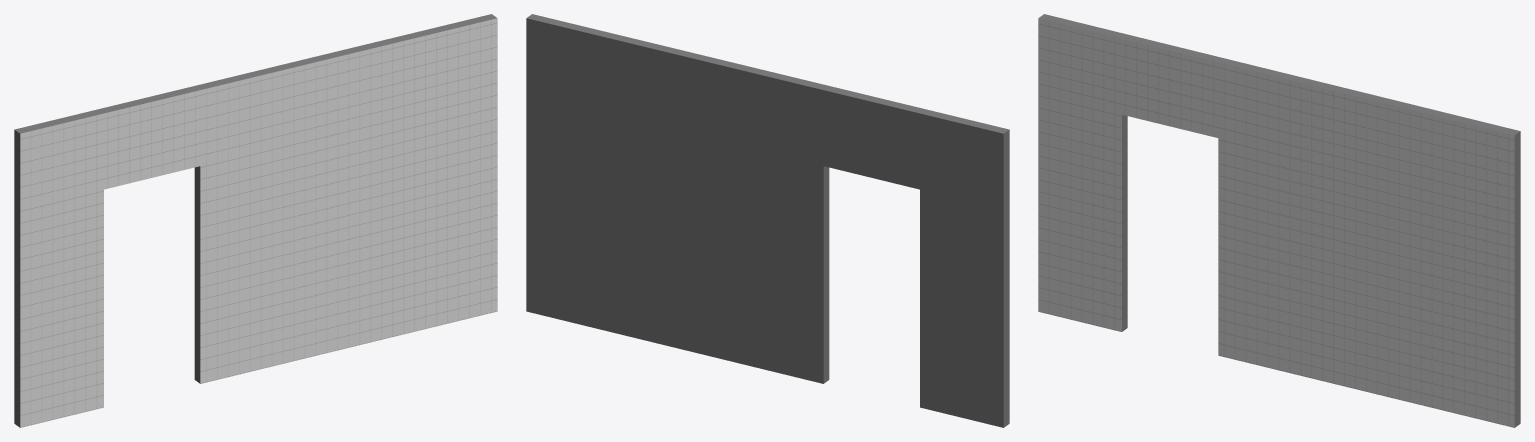
File: door wall.FBX
3 renders of one model, left to right at view 1: azimuth 30°, elevation 25°; view 2: azimuth 150°, elevation 25°; view 3: azimuth 330°, elevation 25°, orthographic.
Parts seen in each view (by area): view 1: door wall; view 2: door wall; view 3: door wall.
Part boxes in pixels (<box>): door wall: <box>14,14,497,427</box>; door wall: <box>526,14,1009,427</box>; door wall: <box>1038,14,1520,427</box>.
Size of the model in its own units: 550 by 324 by 11.5.
2 materials, 1 textured.
